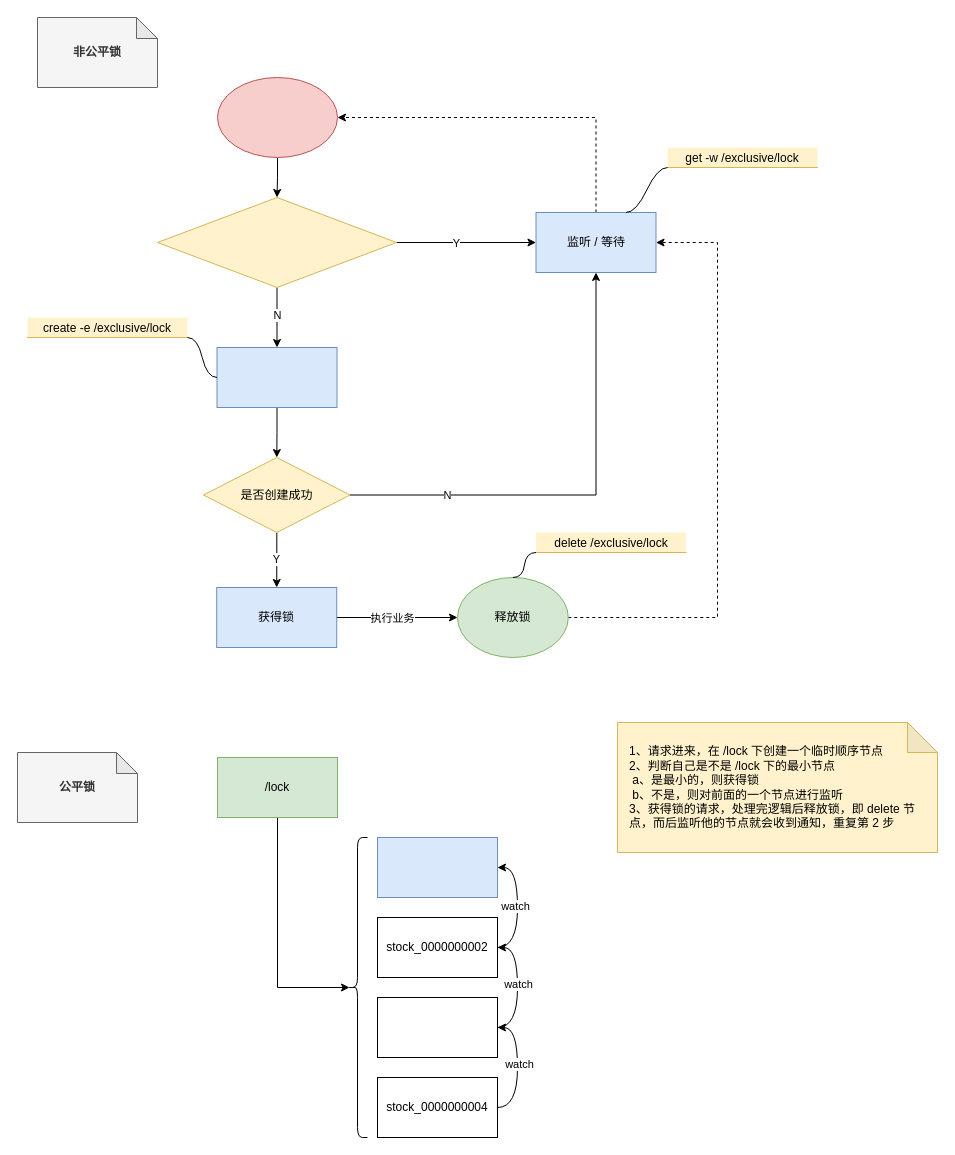
Some shapes in this 955 by 1155 pixel diagram are drawn without their labels. The box of each missing label's shape, as (x1, y1, x2, y2) in pixels:
stock_0000000001: (376, 836, 498, 898)
stock_0000000003: (376, 996, 498, 1058)
创建 /exclusive/lock: (216, 346, 337, 408)
当前锁是否已经有其他事物创建: (156, 196, 396, 288)
获取锁: (216, 76, 338, 158)
